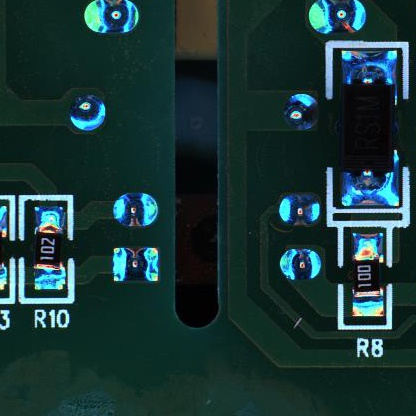spot: (305, 1, 369, 37), (111, 243, 162, 286), (84, 1, 139, 36), (111, 193, 160, 227), (277, 192, 322, 226), (68, 94, 107, 133), (278, 247, 322, 280), (282, 92, 319, 131)
